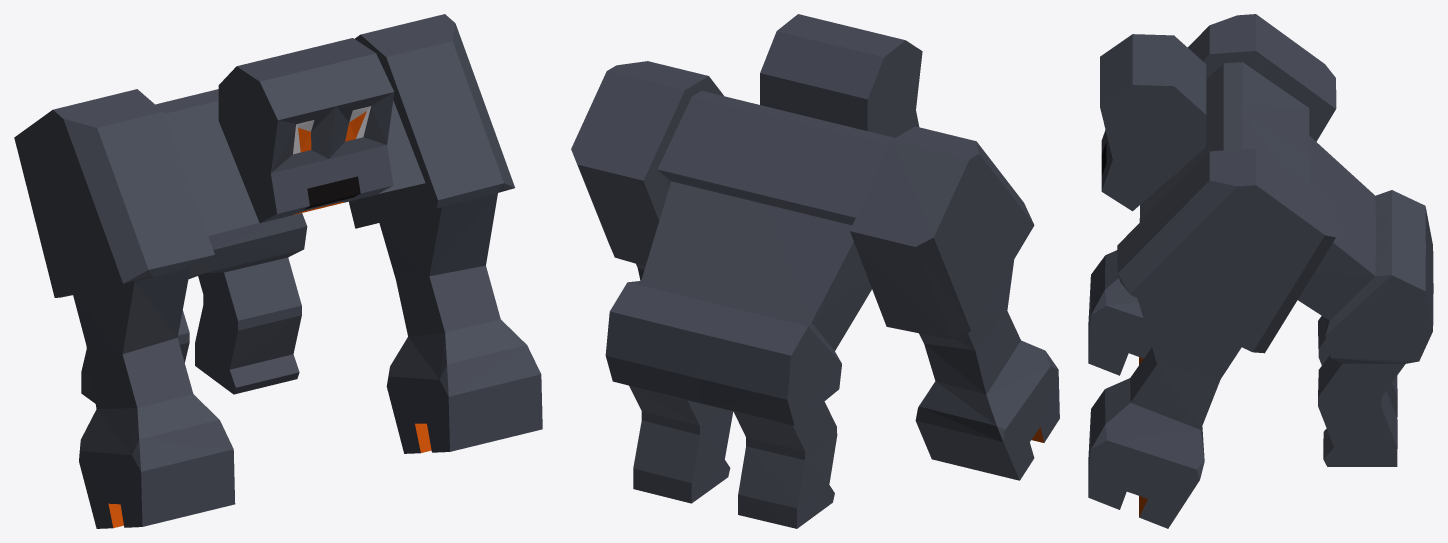
The model's file is kong_000002.obj.
The picture shows the model from 3 angles, left to right: view 1: azimuth 30°, elevation 25°; view 2: azimuth 150°, elevation 25°; view 3: azimuth 270°, elevation 25°; orthographic projection. The views are drawn at different scales.
Visible parts, largest first — view 1: Cube; view 2: Cube; view 3: Cube.
Part boxes in pixels (bbox=[...]): Cube: bbox=[14, 14, 542, 528]; Cube: bbox=[571, 14, 1059, 528]; Cube: bbox=[1088, 14, 1433, 528].
Bounding box in the file's own units: 5.84 × 5.92 × 4.85.
Materials: 1 (1 with a texture image).
